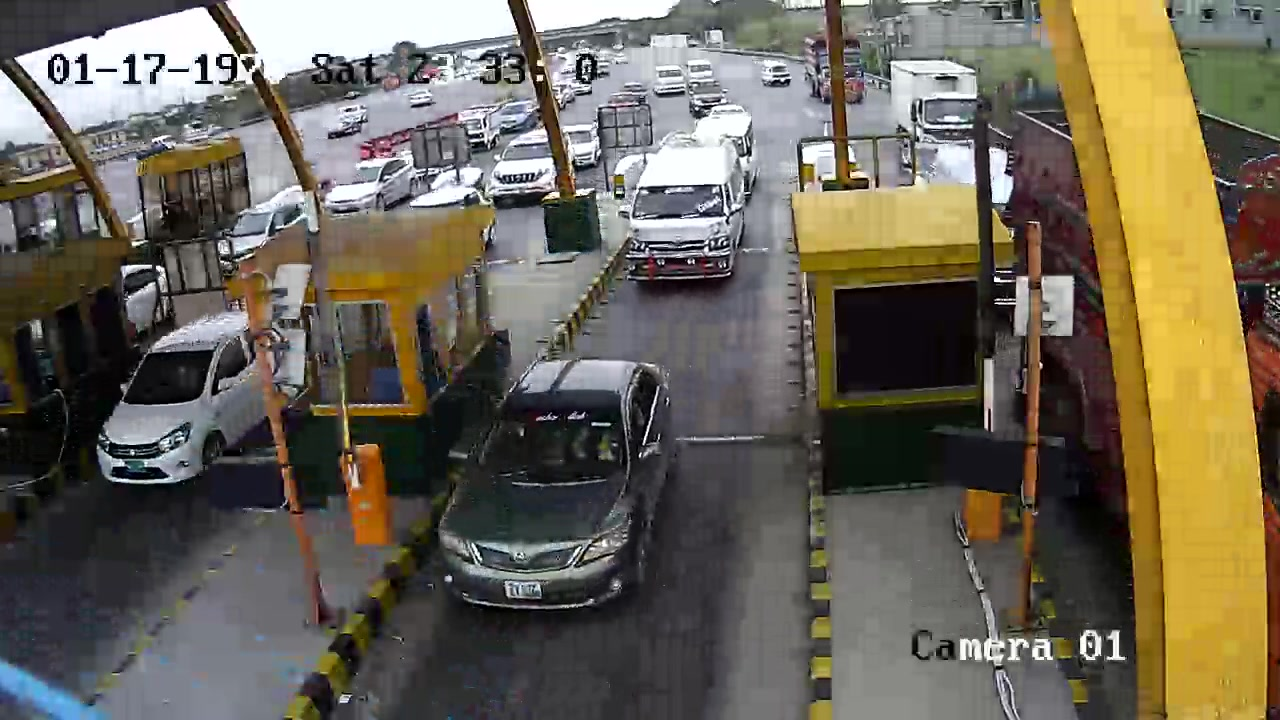F1: (416, 346, 691, 610)
F3: (625, 132, 755, 292)
